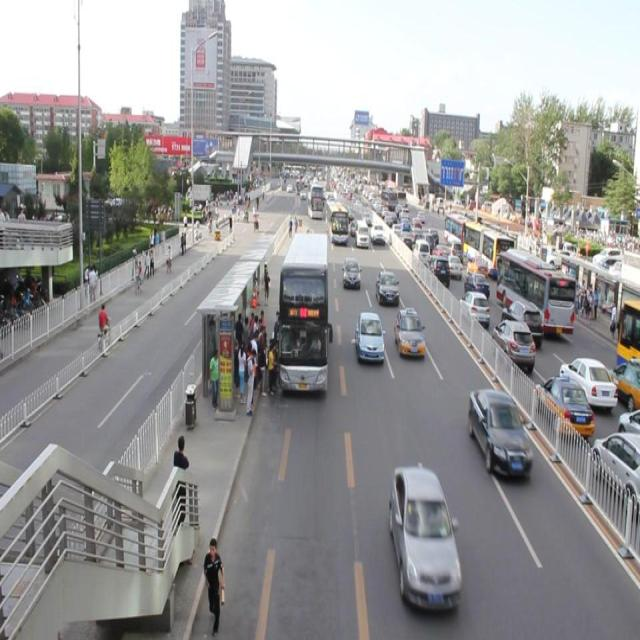car: (389, 464, 460, 612), (466, 386, 530, 476), (355, 309, 384, 364), (393, 308, 424, 358), (376, 269, 398, 307), (341, 259, 360, 290), (368, 224, 383, 244), (361, 210, 371, 226), (346, 204, 354, 220), (350, 218, 357, 235)
truck: (355, 219, 368, 248)
van: (278, 230, 326, 393), (326, 198, 348, 244), (306, 182, 324, 220)
